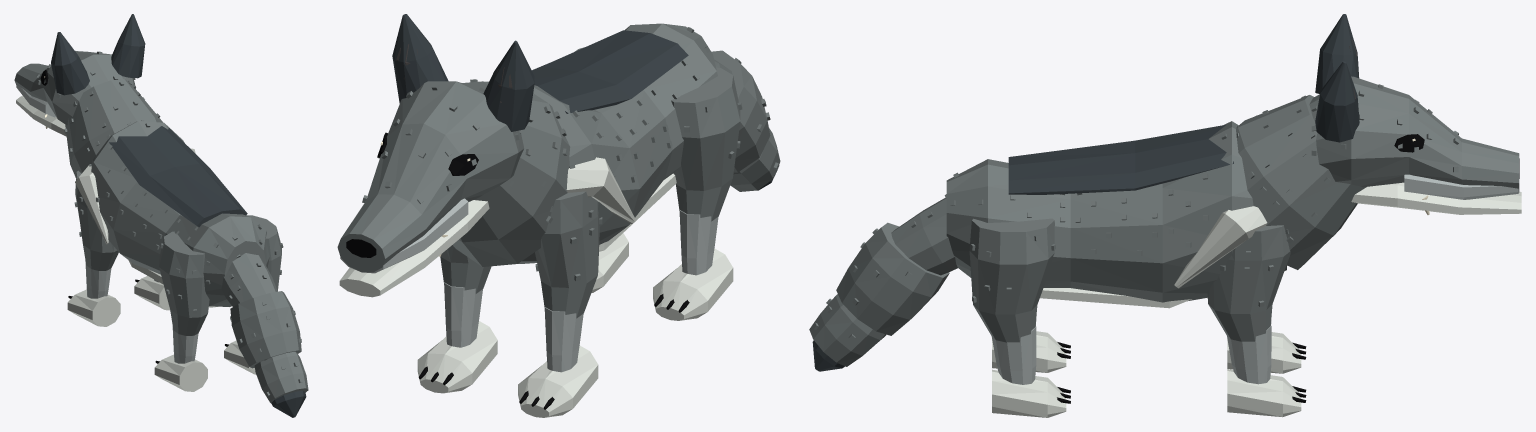
File: Wolf.fbx
The picture shows the model from 3 angles, left to right: view 1: azimuth 30°, elevation 25°; view 2: azimuth 150°, elevation 25°; view 3: azimuth 270°, elevation 25°; orthographic projection. The views are drawn at different scales.
Visible parts, largest first — view 1: Import3D_Core, Import3D_Neck, Import3D_Tail1, Import3D_LegBL, Import3D_Head, Import3D_KneeBL, Import3D_KneeFL, Import3D_Tail, Import3D_Tail2, Import3D_LegFL, Import3D_EarL, Import3D_EarR (+5 smaller); view 2: Import3D_Core, Import3D_Head, Import3D_Neck, Import3D_LegBL, Import3D_LegFL, Import3D_KneeFL, Import3D_KneeBL, Import3D_KneeFR, Import3D_Jaw, Import3D_EarL, Import3D_Tail1, Import3D_EarR (+3 smaller); view 3: Import3D_Core, Import3D_Head, Import3D_Neck, Import3D_LegBR, Import3D_Tail1, Import3D_LegFR, Import3D_KneeFR, Import3D_KneeBR, Import3D_Jaw, Import3D_Tail, Import3D_Tail2, Import3D_EarR (+3 smaller).
Part boxes in pixels (box(x1,y1,x2,y2)): Import3D_Core: box(89, 120, 269, 307); Import3D_Neck: box(64, 79, 195, 244); Import3D_Tail1: box(230, 291, 301, 368); Import3D_LegBL: box(159, 231, 209, 335); Import3D_Head: box(14, 50, 135, 128); Import3D_KneeBL: box(154, 327, 207, 391); Import3D_KneeFL: box(67, 261, 120, 326); Import3D_Tail: box(221, 253, 277, 306); Import3D_Tail2: box(254, 351, 308, 402); Import3D_LegFL: box(74, 170, 118, 270); Import3D_EarL: box(51, 32, 89, 95); Import3D_EarR: box(111, 14, 145, 78); Import3D_Core: box(518, 23, 717, 263); Import3D_Head: box(337, 81, 524, 273); Import3D_Neck: box(453, 79, 634, 266); Import3D_LegBL: box(671, 67, 742, 221); Import3D_LegFL: box(535, 191, 602, 318); Import3D_KneeFL: box(518, 307, 598, 417); Import3D_KneeBL: box(653, 210, 733, 320); Import3D_KneeFR: box(417, 282, 497, 393); Import3D_Jaw: box(339, 200, 489, 297); Import3D_EarL: box(483, 40, 534, 131); Import3D_Tail1: box(711, 50, 770, 172); Import3D_EarR: box(392, 14, 448, 103); Import3D_Core: box(946, 121, 1286, 308); Import3D_Head: box(1309, 76, 1519, 214); Import3D_Neck: box(1174, 95, 1366, 288); Import3D_LegBR: box(969, 218, 1055, 342); Import3D_Tail1: box(836, 222, 949, 335); Import3D_LegFR: box(1207, 225, 1290, 341); Import3D_KneeFR: box(1227, 325, 1306, 417); Import3D_KneeBR: box(991, 326, 1070, 417); Import3D_Jaw: box(1351, 182, 1521, 214); Import3D_Tail: box(891, 194, 957, 275); Import3D_Tail2: box(809, 294, 886, 366); Import3D_EarR: box(1315, 61, 1359, 142).
Size of the model in its own units: 77.72 by 169 by 310.
Materials: 1 (1 with a texture image).
